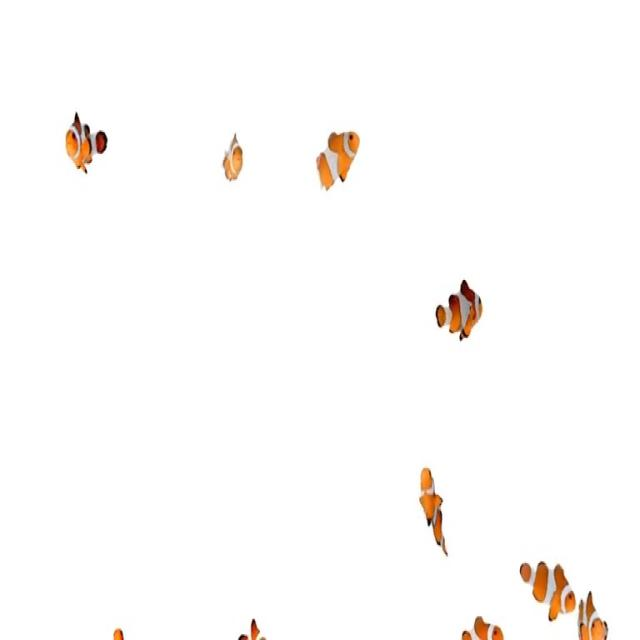fish: (515, 551, 577, 623), (310, 126, 362, 206), (432, 279, 488, 347), (418, 458, 453, 561), (62, 112, 110, 174), (572, 582, 606, 640), (460, 611, 506, 640), (220, 135, 244, 183)
